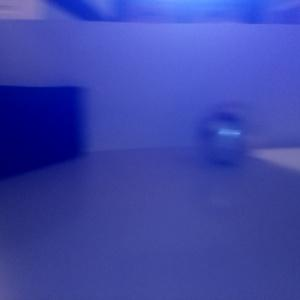alive_ball: (197, 105, 257, 165)
